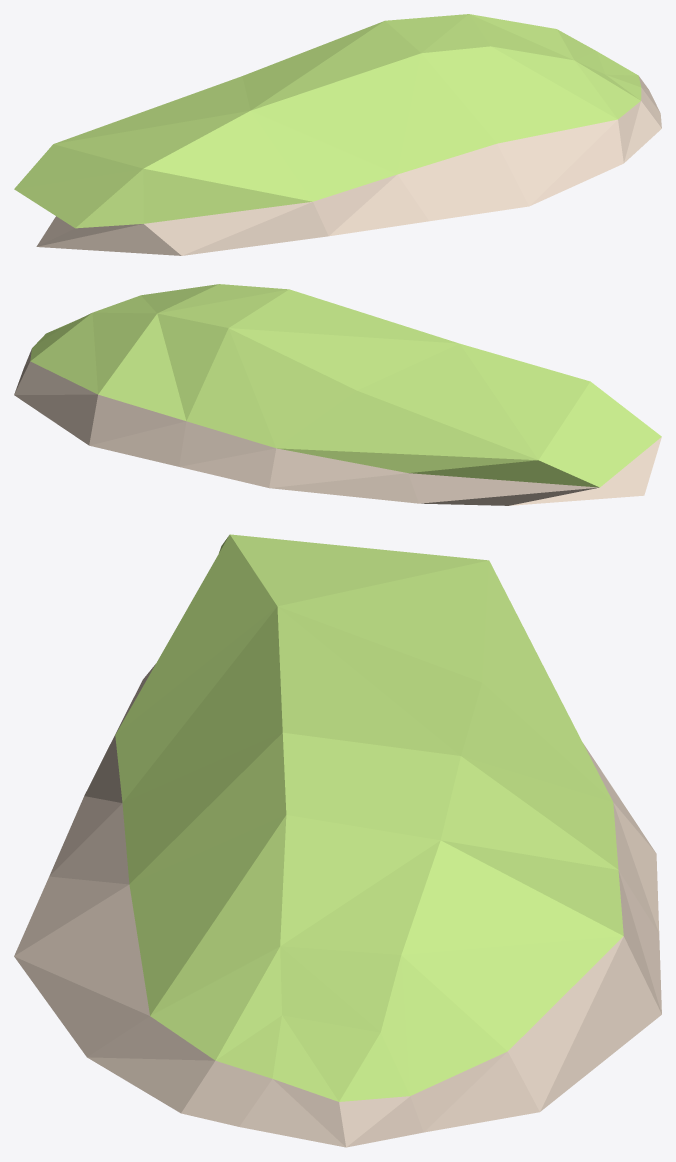
File: Small_hill_04a.fbx
3 renders of one model, top to bottom at view 1: azimuth 30°, elevation 25°; view 2: azimuth 150°, elevation 25°; view 3: azimuth 270°, elevation 25°, orthographic. The views are drawn at different scales.
Visible parts, largest first — view 1: Small_hill_04; view 2: Small_hill_04; view 3: Small_hill_04.
Part boxes in pixels (x1=…): Small_hill_04: x1=14, y1=14, x2=661, y2=255; Small_hill_04: x1=14, y1=284, x2=661, y2=505; Small_hill_04: x1=14, y1=534, x2=661, y2=1147.
Bounding box in the file's own units: 20.6 × 3.53 × 10.31.
